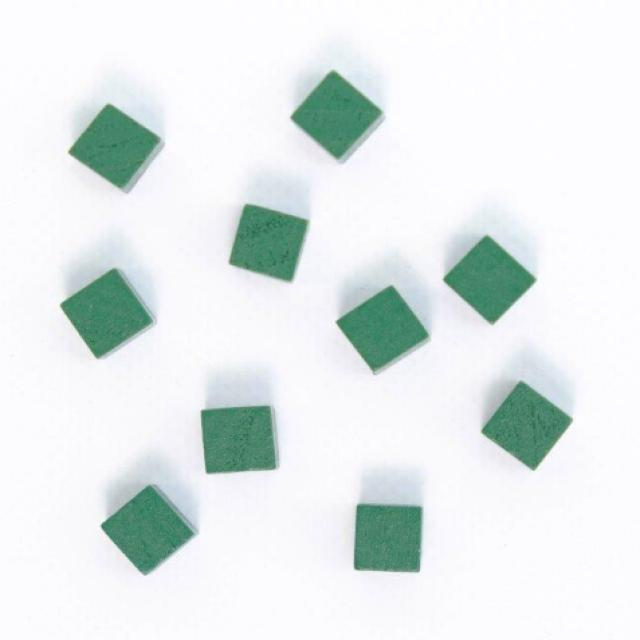green cube: (288, 67, 389, 165), (57, 265, 159, 361), (97, 480, 198, 575), (335, 283, 431, 376), (68, 105, 166, 196), (482, 380, 574, 472), (442, 236, 539, 322), (229, 201, 309, 279), (202, 405, 277, 474), (353, 502, 422, 572)
